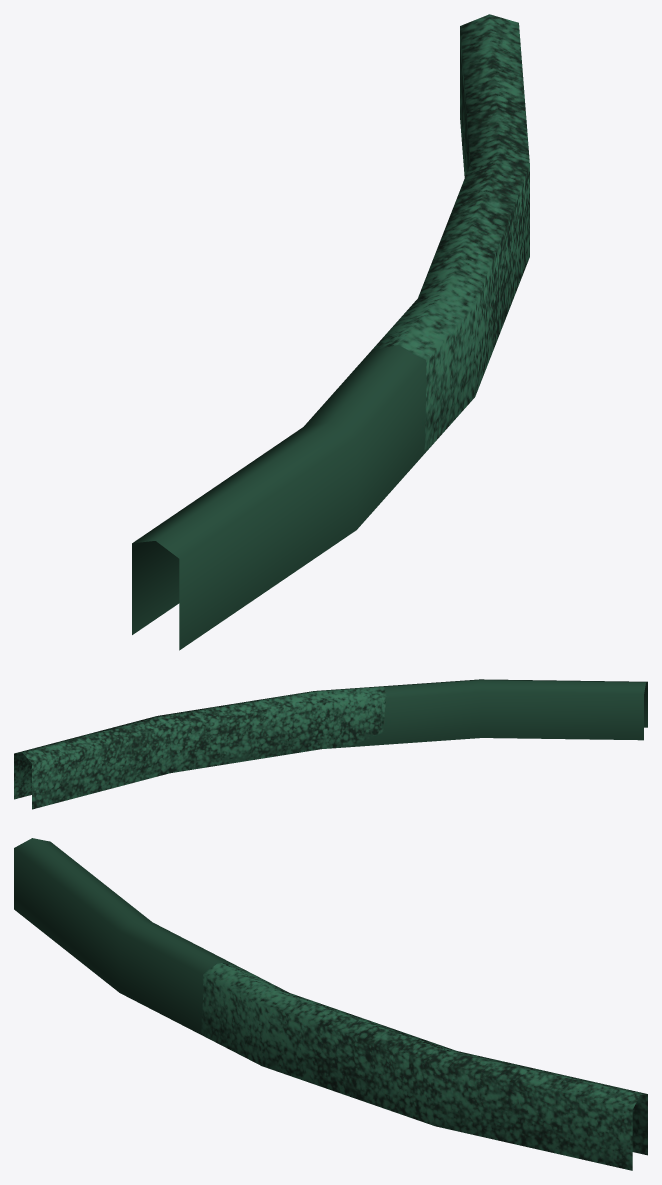
File: Ring44.fbx
The picture shows the model from 3 angles, top to bottom: view 1: azimuth 30°, elevation 25°; view 2: azimuth 150°, elevation 25°; view 3: azimuth 270°, elevation 25°; orthographic projection. The views are drawn at different scales.
Visible parts, largest first — view 1: Ring44; view 2: Ring44; view 3: Ring44.
Boxes of the visible parts, left/top/right/bottom form: Ring44: left=132, top=14, right=529, bottom=650; Ring44: left=14, top=679, right=647, bottom=809; Ring44: left=14, top=838, right=647, bottom=1170.
Bounding box in the file's own units: 3370 × 400 × 3370.
